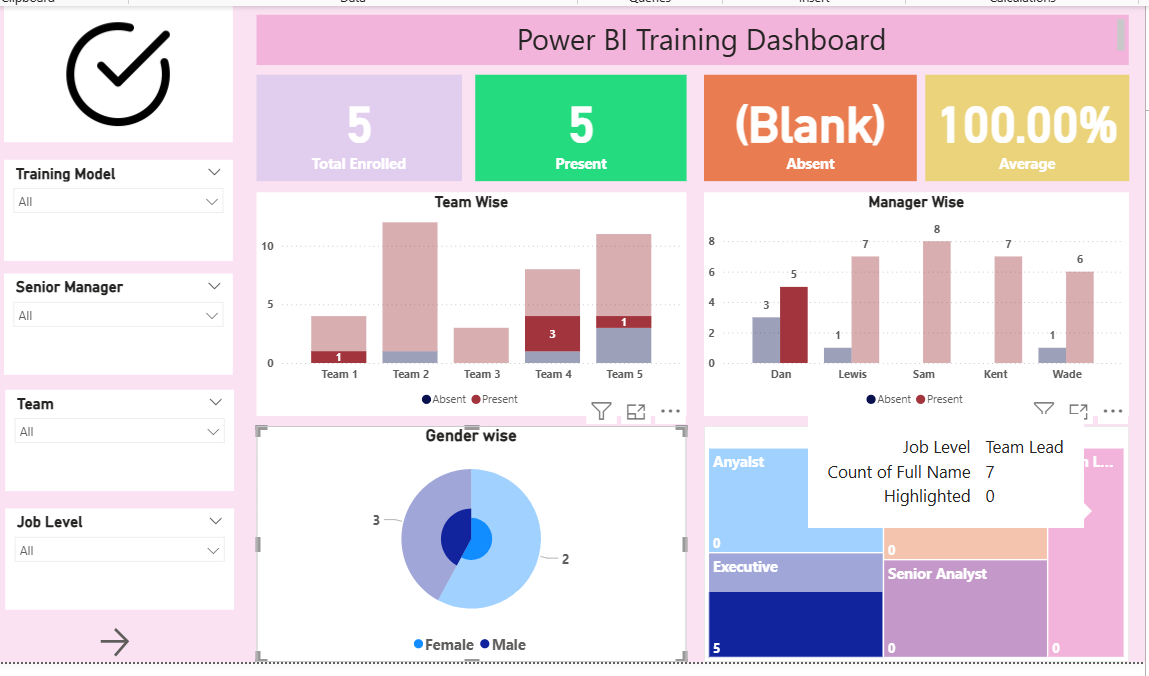

The page's visual inventory and layout, read from the dashboard file:
{"tool":"powerbi","page":{"name":"Page 1","canvas":[1280,720],"ordinal":0},"visuals":[{"type":"card","fields":{"Values":["Data.Full Name"]},"box":[305,75.5,225.2,116.9],"z":0},{"type":"card","fields":{"Values":["Data.Full Name"]},"box":[544.5,75.5,232.3,116.9],"z":1000},{"type":"card","fields":{"Values":["Data.Full Name"]},"box":[795.4,75.5,233.8,116.9],"z":2000},{"type":"card","fields":{"Values":["Data.Attendance Status"]},"box":[1039.1,75.5,223.8,116.9],"z":3000},{"type":"columnChart","title":"Team Wise","fields":{"Category":["Data.Team"],"Y":["Data.Full Name"],"Series":["Data.Attendance"]},"box":[304.6,204.5,472,245.6],"z":4000},{"type":"clusteredColumnChart","title":"Manager Wise","fields":{"Category":["Data.Senior Manager"],"Y":["Data.Full Name"],"Series":["Data.Attendance"]},"box":[795.9,204.5,466.6,245.6],"z":5000},{"type":"pieChart","title":"Gender wise","fields":{"Category":["Data.Gender"],"Y":["Data.Full Name"]},"box":[305,460.4,471.8,259.4],"z":6000},{"type":"treemap","title":"Level Wise","fields":{"Group":["Data.Job Level"],"Values":["Data.Full Name"]},"box":[795.9,461.1,466.6,259.3],"z":7000},{"type":"slicer","fields":{"Values":["Data.Model"]},"box":[27.1,168.2,250.9,111.2],"z":8000},{"type":"slicer","fields":{"Values":["Data.Senior Manager"]},"box":[27.1,293.6,250.9,111.2],"z":9000},{"type":"slicer","fields":{"Values":["Data.Team"]},"box":[28.5,421.9,250.9,111.2],"z":10000},{"type":"slicer","fields":{"Values":["Data.Job Level"]},"box":[28.5,551.6,250.9,111.2],"z":11000},{"type":"image","box":[27.1,0,250.9,149.7],"z":12000},{"type":"actionButton","box":[128.3,678.5,99.8,41.3],"z":13000},{"type":"textbox","box":[305,10,957.9,55.6],"z":14000}]}

Visuals, with their boxes in screenshot pixels (x1, y1, x2, y2):
card - Data.Full Name: 253, 69, 460, 177
card - Data.Full Name: 473, 69, 686, 177
card - Data.Full Name: 703, 69, 918, 177
card - Data.Attendance Status: 927, 69, 1132, 177
"Team Wise" columnChart: 253, 188, 686, 413
"Manager Wise" clusteredColumnChart: 704, 188, 1132, 413
"Gender wise" pieChart: 253, 423, 686, 661
"Level Wise" treemap: 704, 423, 1132, 661
slicer - Data.Model: 0, 154, 228, 256
slicer - Data.Senior Manager: 0, 269, 228, 372
slicer - Data.Team: 0, 387, 229, 489
slicer - Data.Job Level: 0, 506, 229, 608
image: 0, 0, 228, 137
actionButton: 91, 623, 182, 661
textbox: 253, 9, 1132, 60
